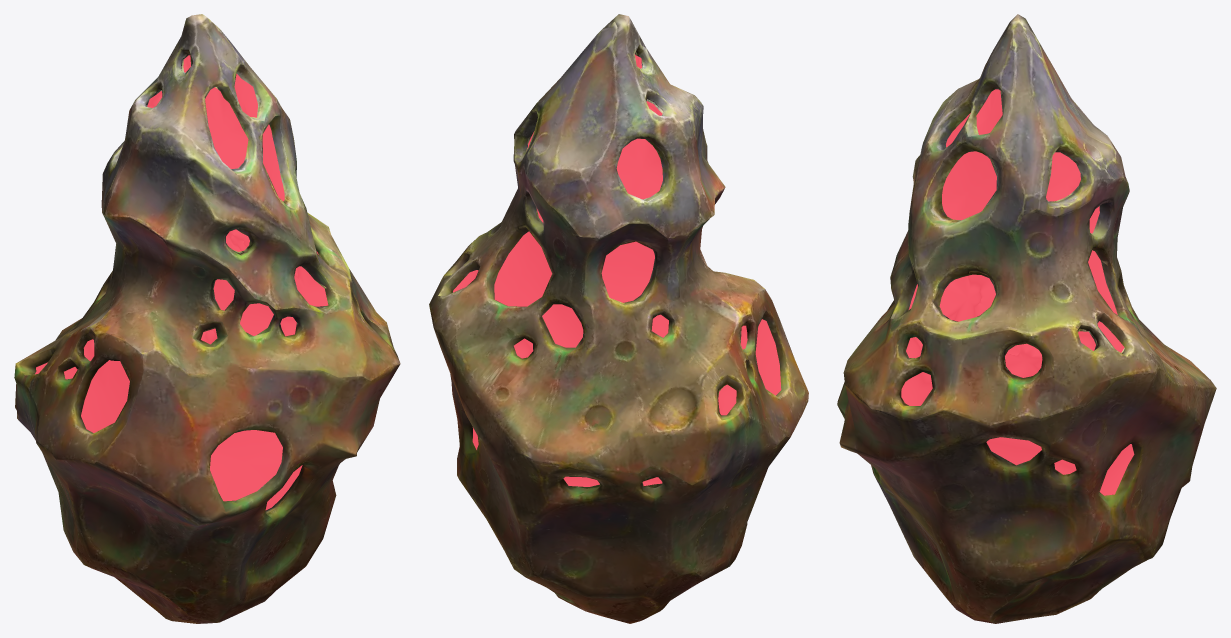
3 renders of one model, left to right at view 1: azimuth 30°, elevation 25°; view 2: azimuth 150°, elevation 25°; view 3: azimuth 270°, elevation 25°, orthographic.
Visible parts, largest first — view 1: SM_PoisonRockStack_light_LOD0; view 2: SM_PoisonRockStack_light_LOD0; view 3: SM_PoisonRockStack_light_LOD0.
Boxes of the visible parts, left/top/right/bottom form: SM_PoisonRockStack_light_LOD0: left=14, top=14, right=400, bottom=623; SM_PoisonRockStack_light_LOD0: left=429, top=14, right=808, bottom=623; SM_PoisonRockStack_light_LOD0: left=837, top=14, right=1216, bottom=623.
Bounding box in the file's own units: 2.87 × 5.12 × 2.92.
2 materials, 1 textured.
